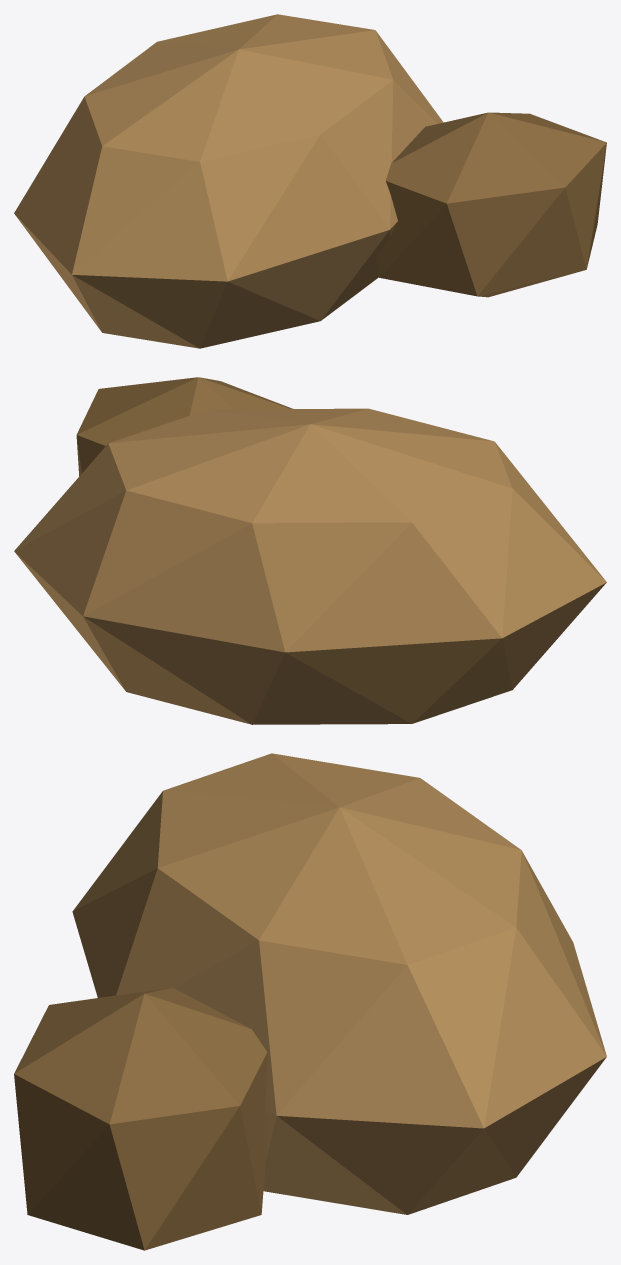
The model's file is drop_potato.glb.
The picture shows the model from 3 angles, top to bottom: view 1: azimuth 30°, elevation 25°; view 2: azimuth 150°, elevation 25°; view 3: azimuth 270°, elevation 25°; orthographic projection. The views are drawn at different scales.
Visible parts, largest first — view 1: drop_potato; view 2: drop_potato; view 3: drop_potato.
Part boxes in pixels (left/top/right/bottom): drop_potato: left=14, top=14, right=606, bottom=348; drop_potato: left=14, top=377, right=606, bottom=724; drop_potato: left=14, top=753, right=606, bottom=1250.
Bounding box in the file's own units: 0.2008 × 0.1 × 0.152.
